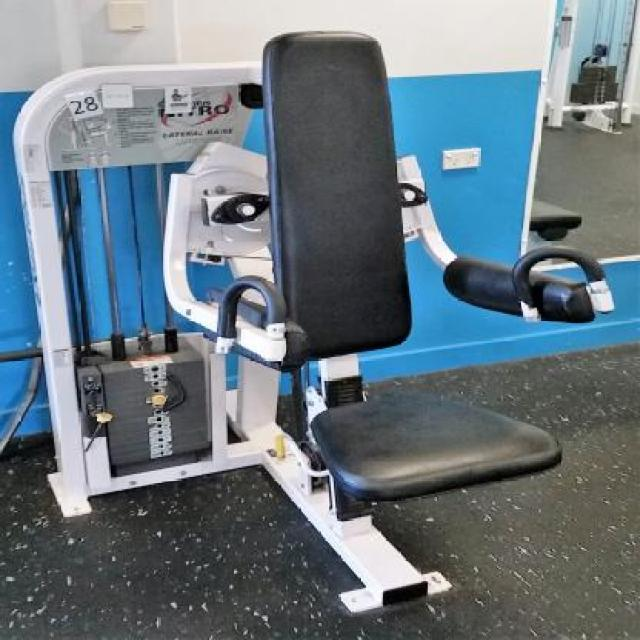lateral raises machine: (10, 31, 612, 618)
